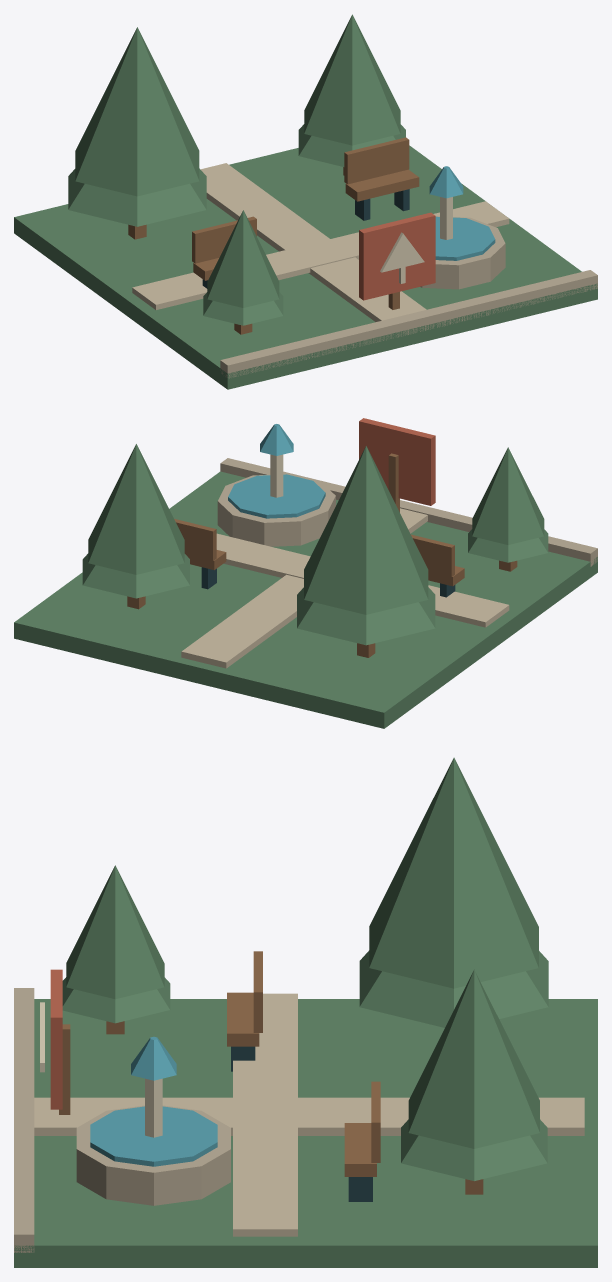
The model's file is park-complete.glb.
3 renders of one model, top to bottom at view 1: azimuth 30°, elevation 25°; view 2: azimuth 150°, elevation 25°; view 3: azimuth 270°, elevation 25°, orthographic. The views are drawn at different scales.
Visible parts, largest first — view 1: park; view 2: park; view 3: park.
Boxes of the visible parts, x1,y1,x2,y2 form: park: (14,14,597,389); park: (14,418,597,728); park: (14,757,597,1267).
Size of the model in its own units: 2.88 by 1.69 by 2.88.
